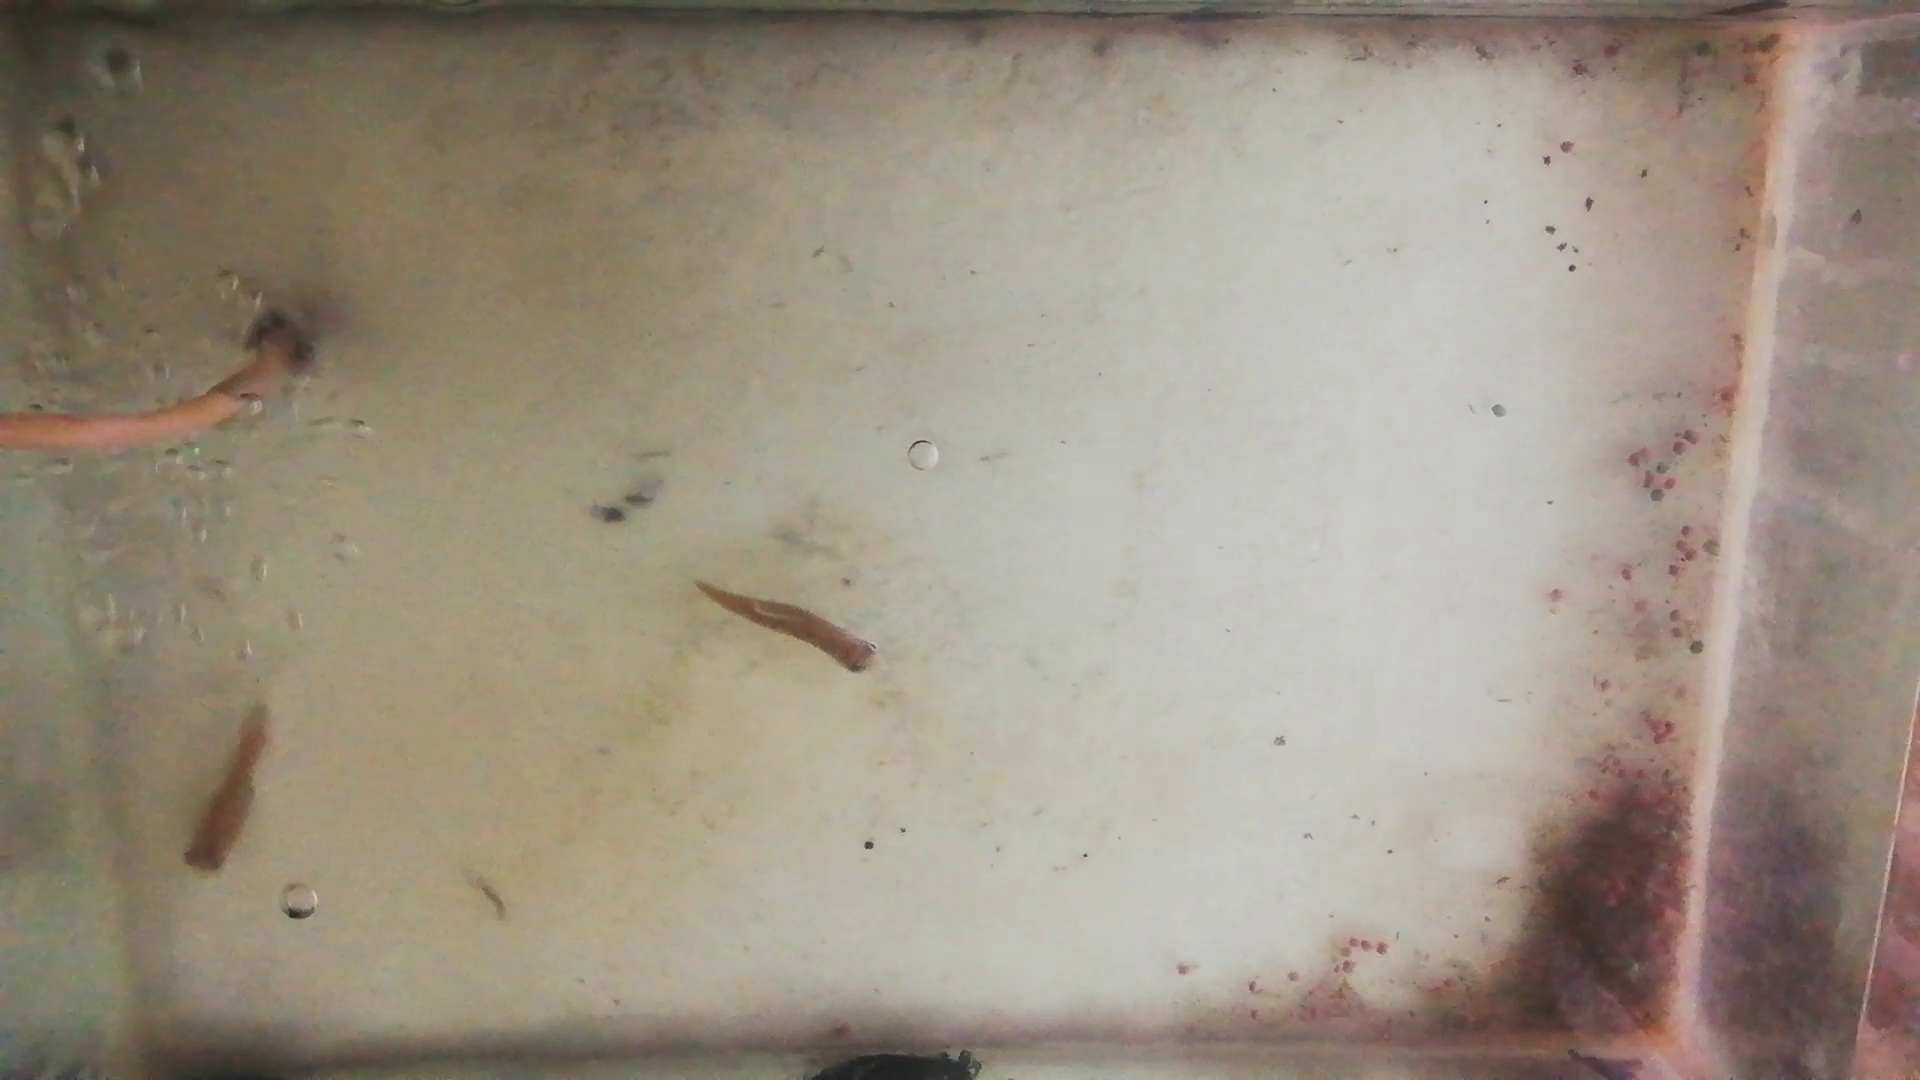fish: (692, 580, 884, 682), (177, 698, 269, 880)
